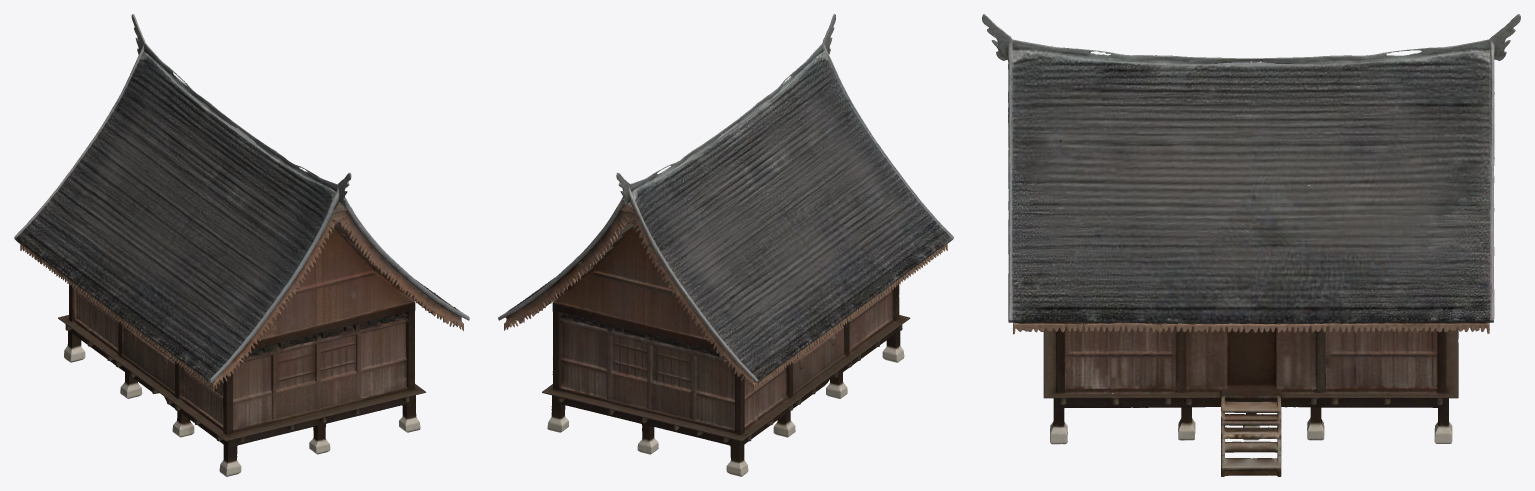
Rendered from RumahSumatera.glb.
The picture shows the model from 3 angles, left to right: view 1: azimuth 30°, elevation 25°; view 2: azimuth 150°, elevation 25°; view 3: azimuth 270°, elevation 25°; orthographic projection. The views are drawn at different scales.
Visible parts, largest first — view 1: tripo_node_6d2fef0e-2aaf-456b-8804-27c4497dc111; view 2: tripo_node_6d2fef0e-2aaf-456b-8804-27c4497dc111; view 3: tripo_node_6d2fef0e-2aaf-456b-8804-27c4497dc111.
Part boxes in pixels (x1,y1,x2,y2): tripo_node_6d2fef0e-2aaf-456b-8804-27c4497dc111: [14, 14, 469, 476]; tripo_node_6d2fef0e-2aaf-456b-8804-27c4497dc111: [498, 14, 953, 476]; tripo_node_6d2fef0e-2aaf-456b-8804-27c4497dc111: [982, 14, 1520, 476].
Size of the model in its own units: 0.7556 by 0.759 by 0.9975.
1 material, 1 textured.
